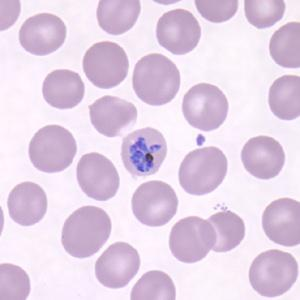Infected: (122, 128, 168, 178)
Uninfected: (132, 53, 182, 106), (62, 205, 111, 259), (28, 121, 75, 176), (248, 247, 298, 298), (177, 148, 230, 196), (87, 93, 139, 140), (82, 42, 131, 89), (181, 83, 228, 129), (18, 10, 65, 56), (155, 7, 202, 53), (92, 243, 140, 288), (131, 178, 175, 227), (170, 216, 214, 265), (76, 152, 118, 202), (239, 136, 285, 180), (262, 199, 300, 248), (42, 69, 85, 111), (8, 181, 49, 225), (199, 213, 243, 251), (94, 1, 139, 36), (267, 75, 300, 122), (270, 21, 300, 68)
